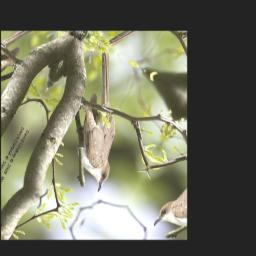Cuckoo: (45, 49, 161, 193)
